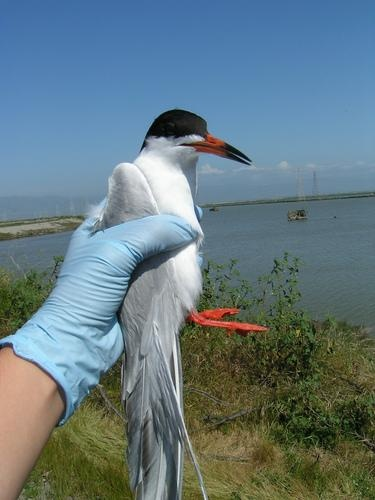bird: (104, 108, 271, 500)
